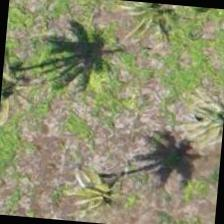Kelapa_Sawit: (64, 141, 162, 223), (112, 0, 206, 54)
